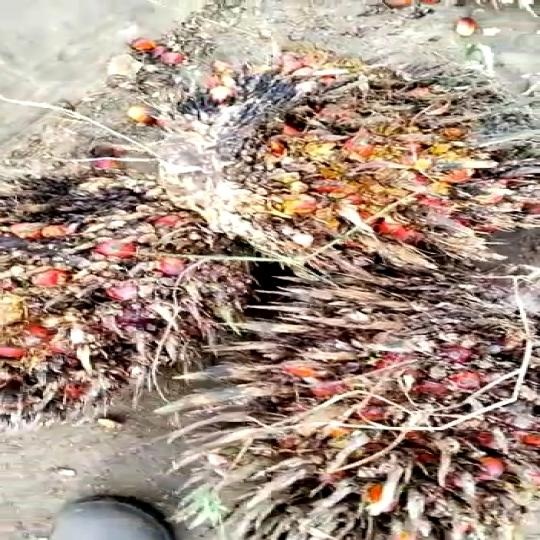terlalu masak: (124, 53, 540, 274), (185, 273, 540, 511)
